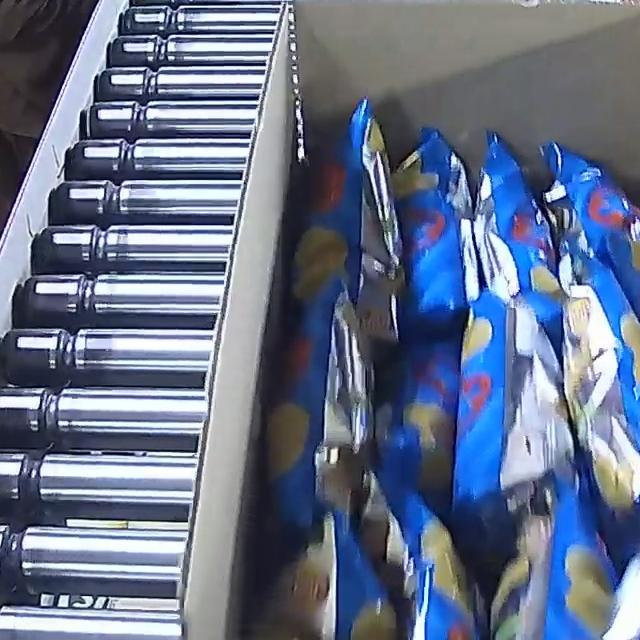paprika: (258, 91, 640, 640)
